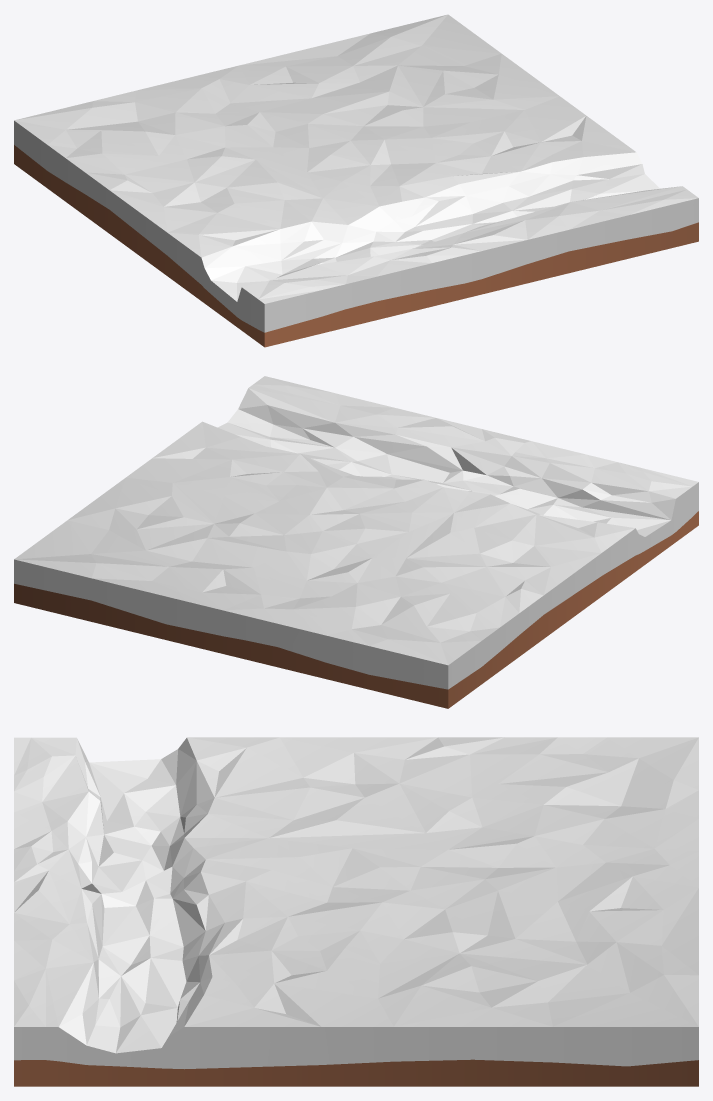
Rendered from land christmas village.fbx.
The picture shows the model from 3 angles, top to bottom: view 1: azimuth 30°, elevation 25°; view 2: azimuth 150°, elevation 25°; view 3: azimuth 270°, elevation 25°; orthographic projection. The views are drawn at different scales.
Visible parts, largest first — view 1: land christmas village; view 2: land christmas village; view 3: land christmas village.
Part boxes in pixels (<box>): land christmas village: <box>14,14,698,347</box>; land christmas village: <box>14,376,698,708</box>; land christmas village: <box>14,737,698,1086</box>.
Size of the model in its own units: 4500 by 474 by 4500.
